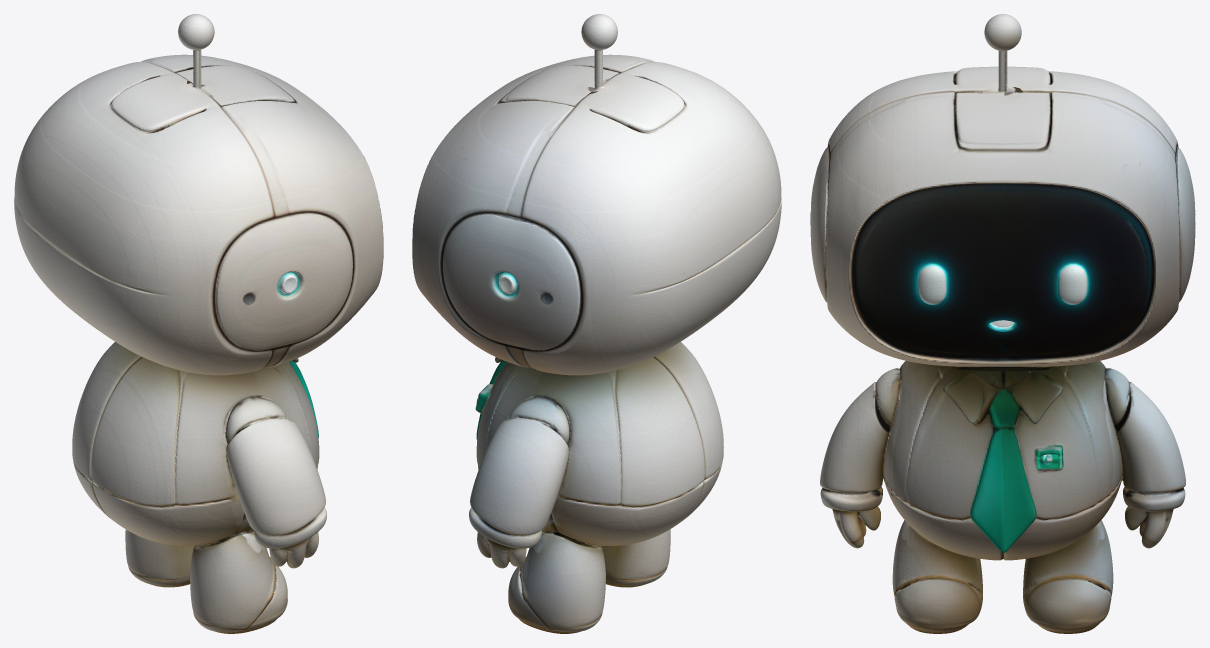
Rendered from JSE-Robo.glb.
3 renders of one model, left to right at view 1: azimuth 30°, elevation 25°; view 2: azimuth 150°, elevation 25°; view 3: azimuth 270°, elevation 25°, orthographic. The views are drawn at different scales.
Parts seen in each view (by area): view 1: tripo_node_38622b0b-e0ef-4cb7-b173-537d361805f0; view 2: tripo_node_38622b0b-e0ef-4cb7-b173-537d361805f0; view 3: tripo_node_38622b0b-e0ef-4cb7-b173-537d361805f0.
Boxes of the visible parts, left/top/right/bottom form: tripo_node_38622b0b-e0ef-4cb7-b173-537d361805f0: left=14, top=14, right=383, bottom=633; tripo_node_38622b0b-e0ef-4cb7-b173-537d361805f0: left=412, top=14, right=781, bottom=633; tripo_node_38622b0b-e0ef-4cb7-b173-537d361805f0: left=810, top=14, right=1195, bottom=633.
Bounding box in the file's own units: 0.4875 × 1 × 0.584.
1 material, 1 textured.
